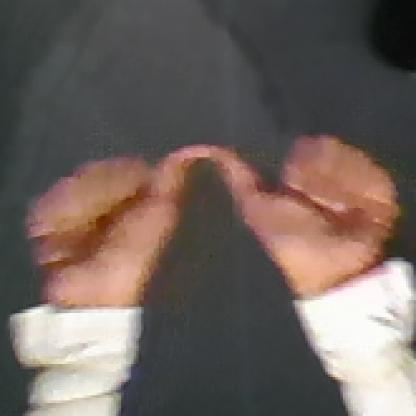A: (21, 142, 402, 278)
